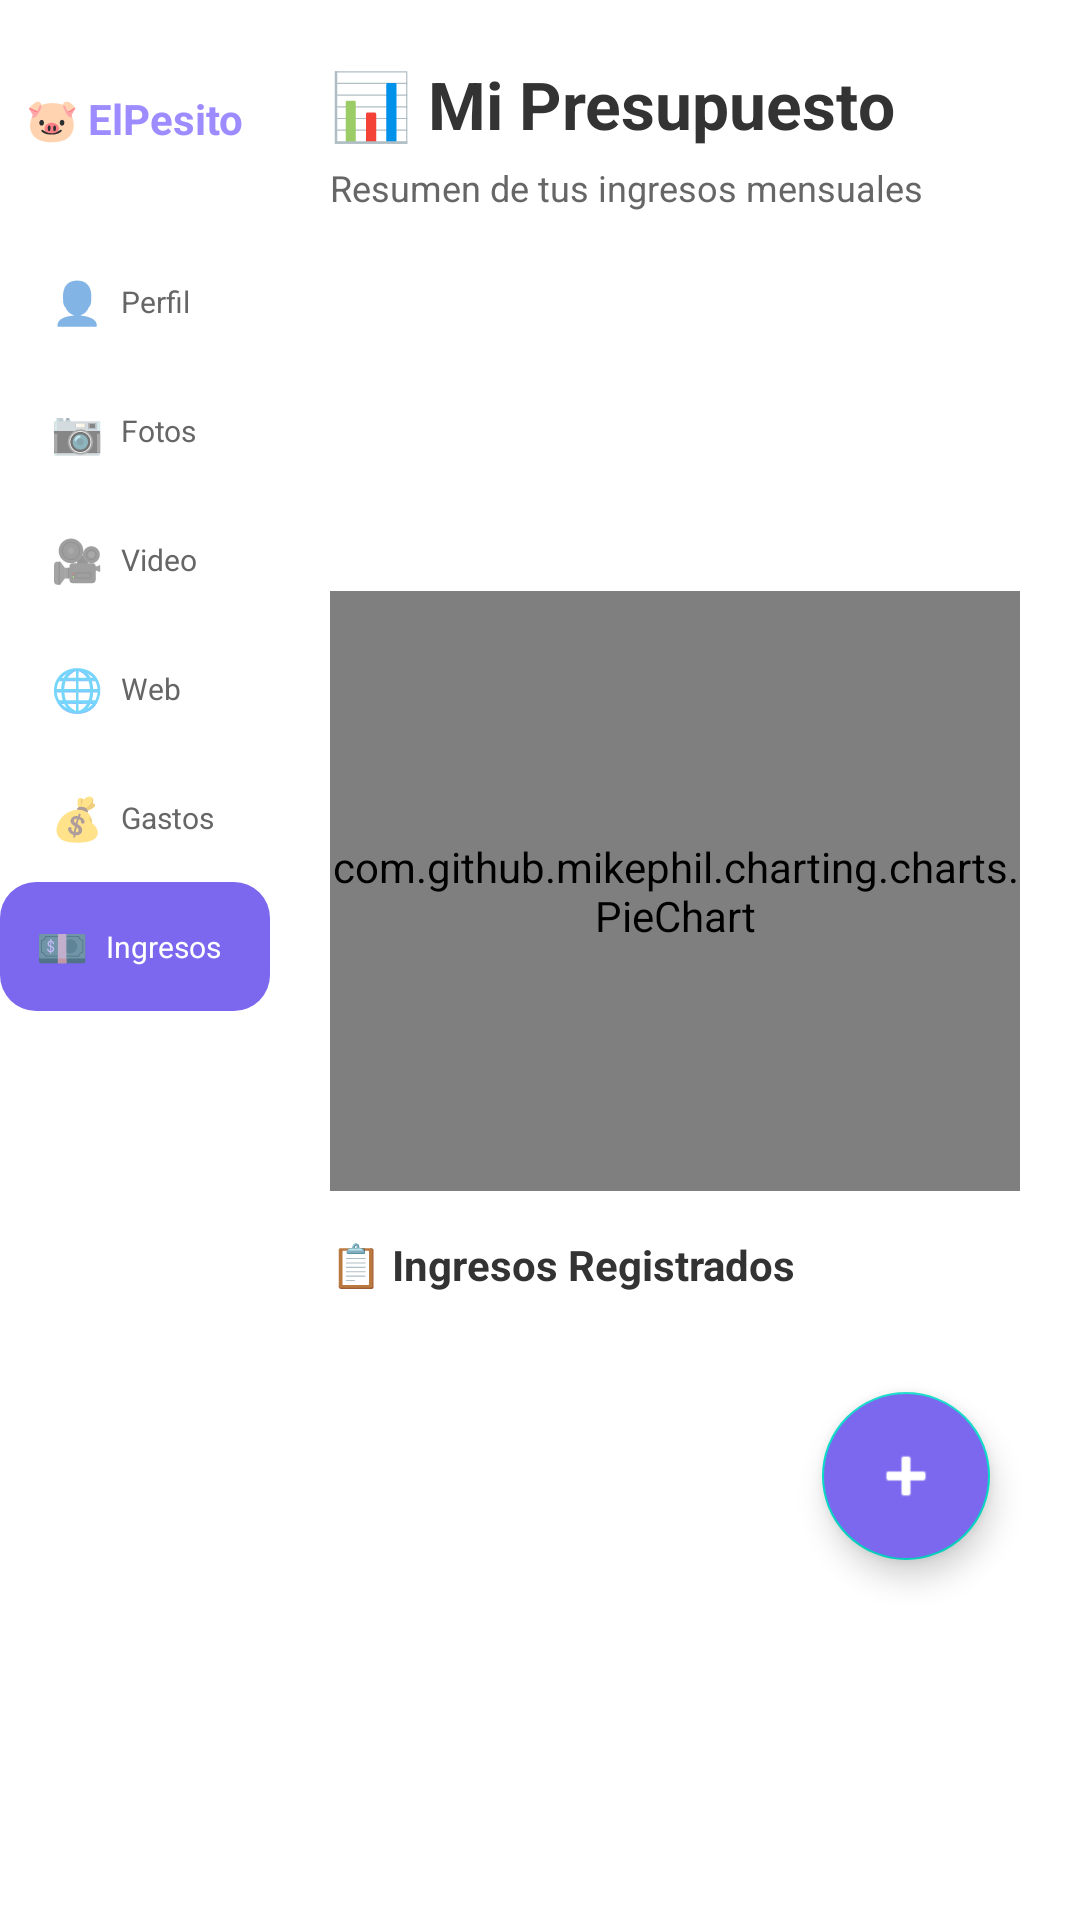

Screen size 1080px x 1920px. Icon name, then its center in pixels as [x,y]:
add: [906,1476]
